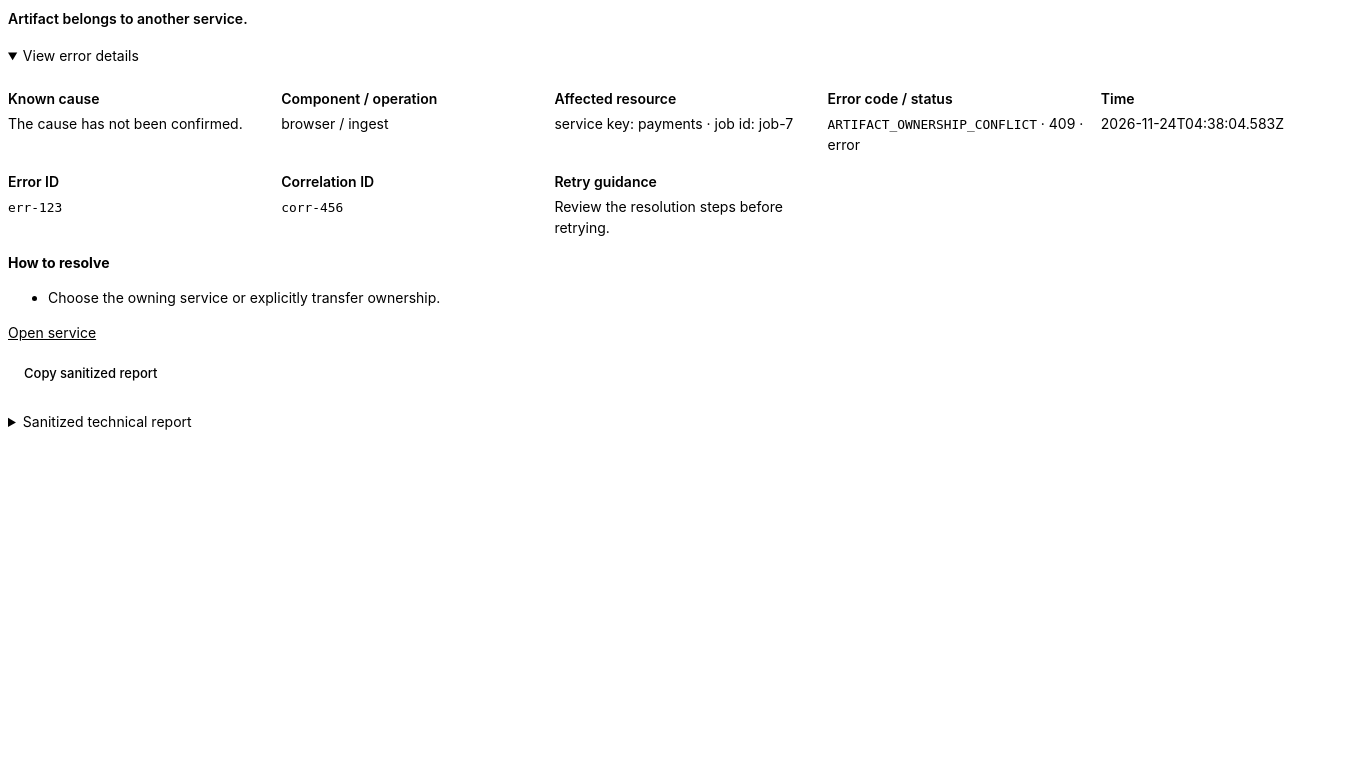
offers a selectable report when clipboard access fails and does not show admin destinations to ordinary users
Click the button "Copy sanitized report". click: [91, 373]
box: [8, 355, 174, 391]
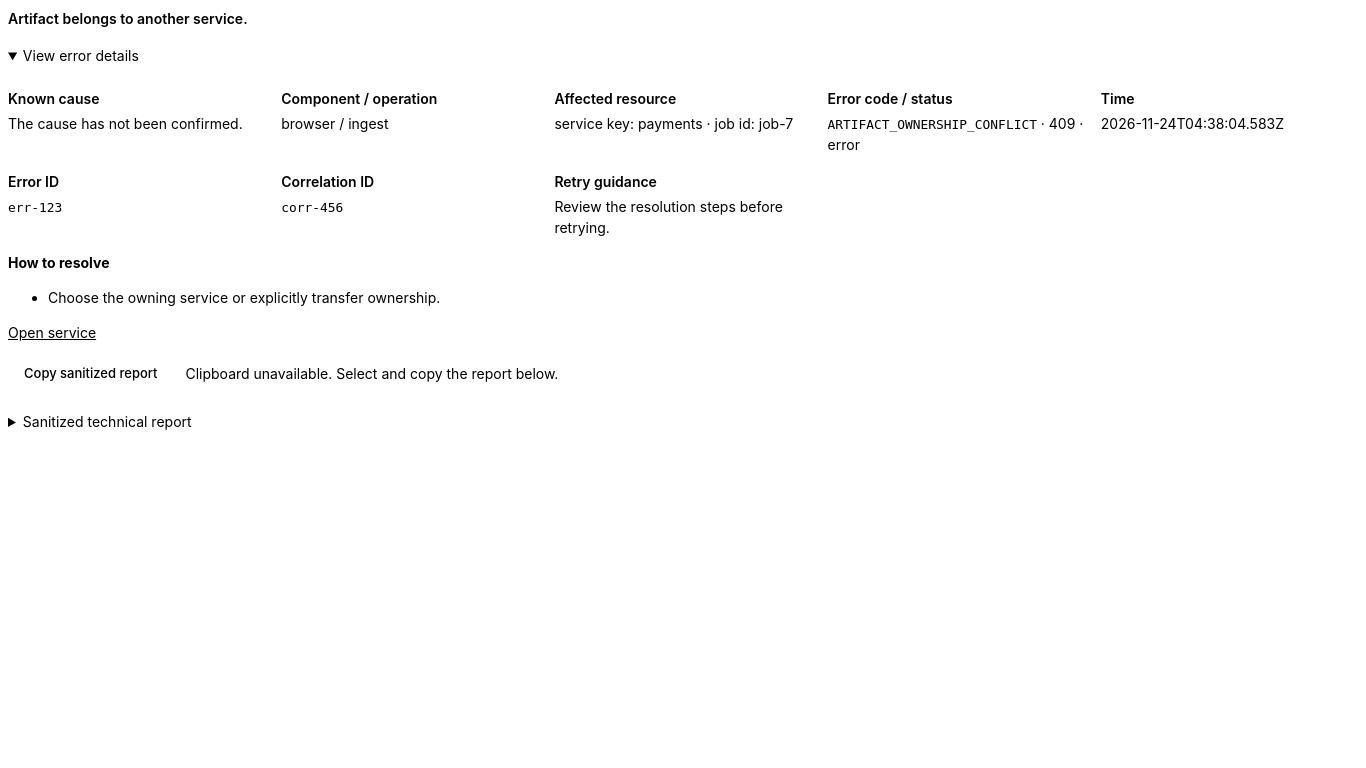
Expected: the text "Clipboard unavailable. Select and copy the report below." is shown, [186, 363, 558, 384]
Click the heading "Sanitized technical report". click: [107, 422]
box: [23, 413, 192, 430]
(page scrolled)
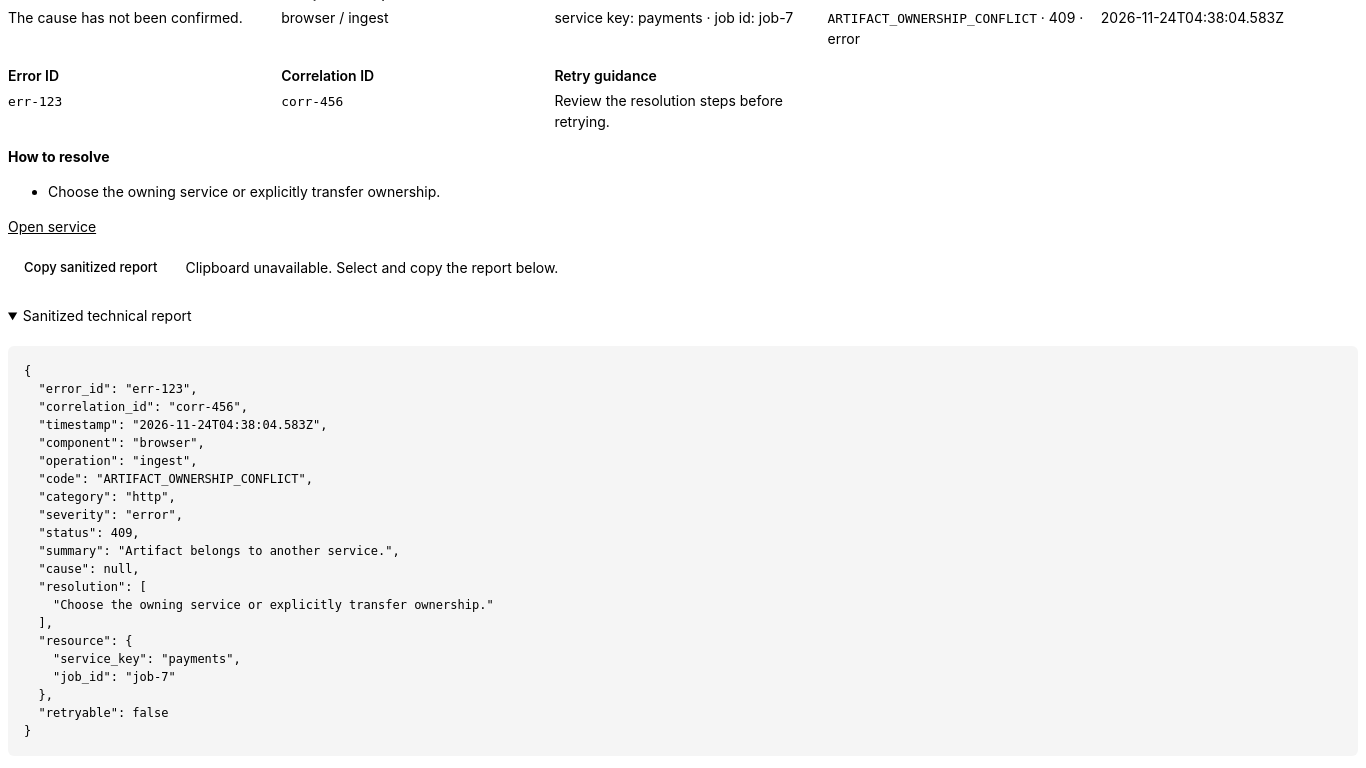
Expected: the text "\"error_id\": \"err-123\"" is shown, [24, 364, 494, 738]
